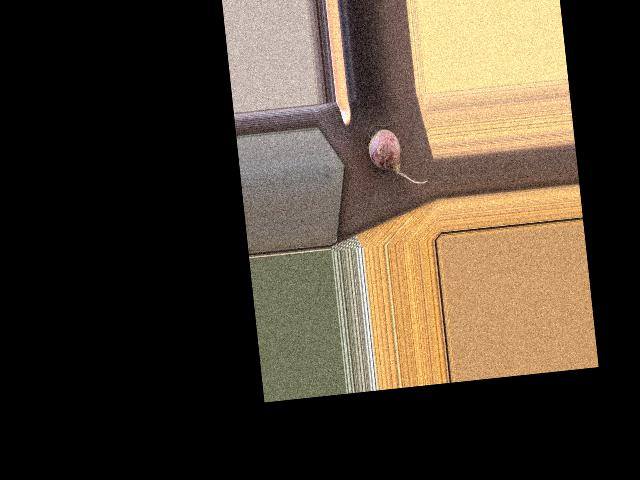beet: (365, 115, 427, 189)
